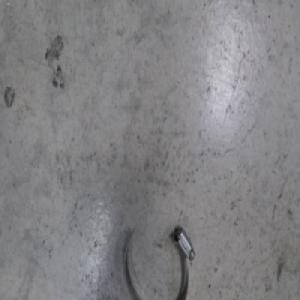AdjustableClamp: (122, 224, 196, 300)
